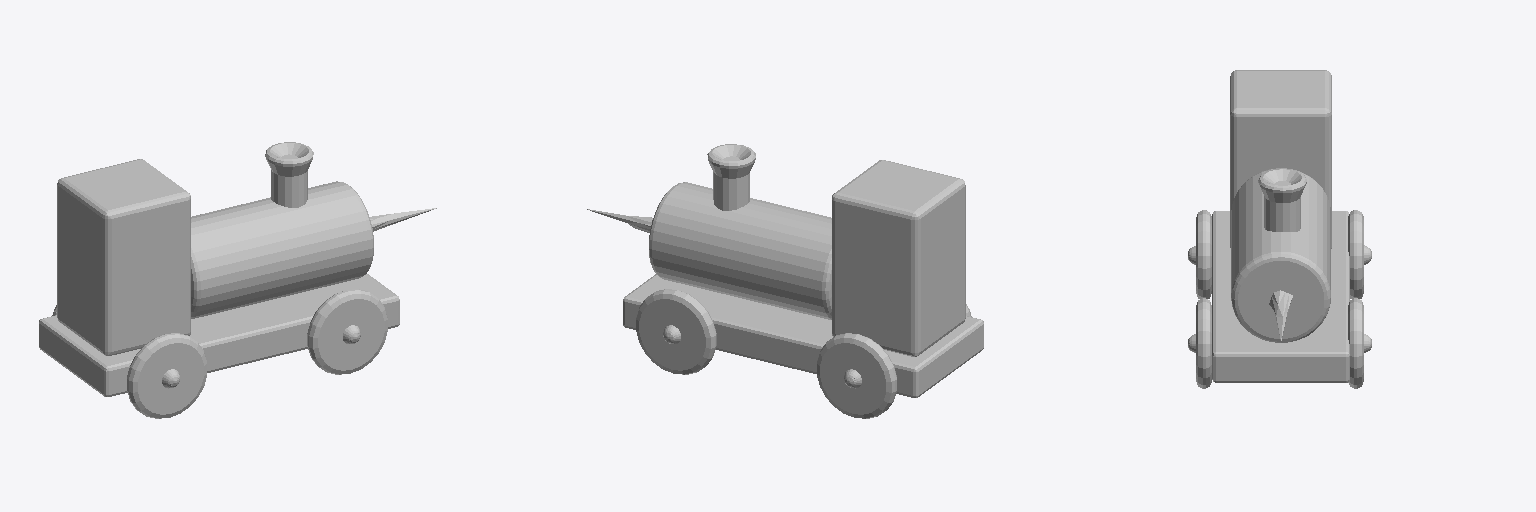
The model's file is train.obj.
The picture shows the model from 3 angles: view 1: azimuth 30°, elevation 25°; view 2: azimuth 150°, elevation 25°; view 3: azimuth 270°, elevation 25°; orthographic projection.
Visible parts, largest first — view 1: _3, _1, _2, default, _5, _4; view 2: _3, _1, _2, default, _5, _4; view 3: _1, _2, _3, default, _5.
Part boxes in pixels (bbox=[...]): _3: bbox=[57, 159, 190, 355]; _1: bbox=[191, 181, 436, 318]; _2: bbox=[39, 274, 399, 396]; default: bbox=[52, 289, 387, 418]; _5: bbox=[265, 142, 313, 207]; _4: bbox=[162, 325, 360, 388]; _3: bbox=[832, 160, 965, 356]; _1: bbox=[587, 182, 831, 319]; _2: bbox=[623, 274, 983, 397]; default: bbox=[636, 289, 971, 418]; _5: bbox=[707, 144, 755, 210]; _4: bbox=[663, 325, 861, 388]; _1: bbox=[1231, 168, 1330, 342]; _2: bbox=[1212, 211, 1349, 382]; _3: bbox=[1230, 70, 1331, 248]; default: bbox=[1196, 210, 1363, 388]; _5: bbox=[1258, 169, 1306, 231].
Bounding box in the file's own units: 2.49 × 1.33 × 1.08.